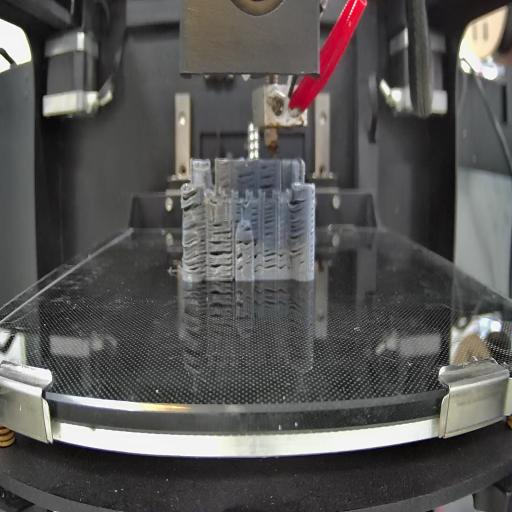cracks: (183, 222, 207, 275), (289, 199, 305, 257), (210, 239, 232, 275), (182, 187, 204, 214), (264, 206, 277, 238), (260, 166, 276, 192), (236, 164, 254, 187), (263, 247, 277, 271), (212, 221, 233, 236), (236, 238, 258, 246), (234, 202, 242, 224), (237, 251, 244, 272), (280, 248, 286, 271), (254, 250, 260, 272), (252, 204, 258, 226), (220, 178, 232, 188), (243, 225, 252, 232), (300, 261, 306, 267)
